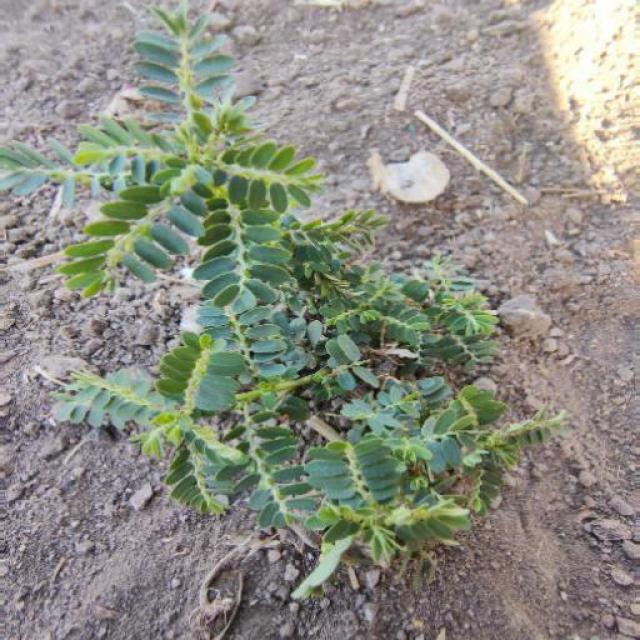weed: (44, 46, 548, 565)
